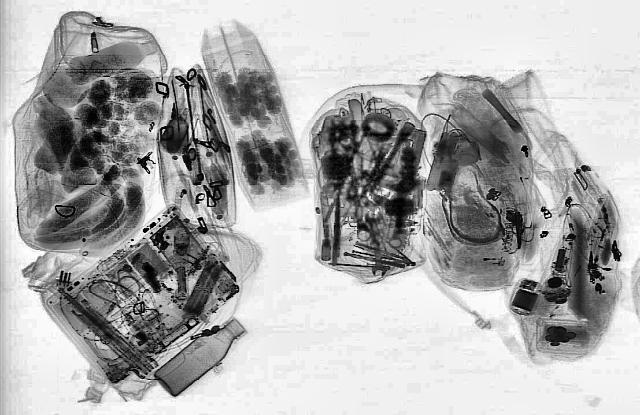Wrench: (364, 213, 386, 277)
